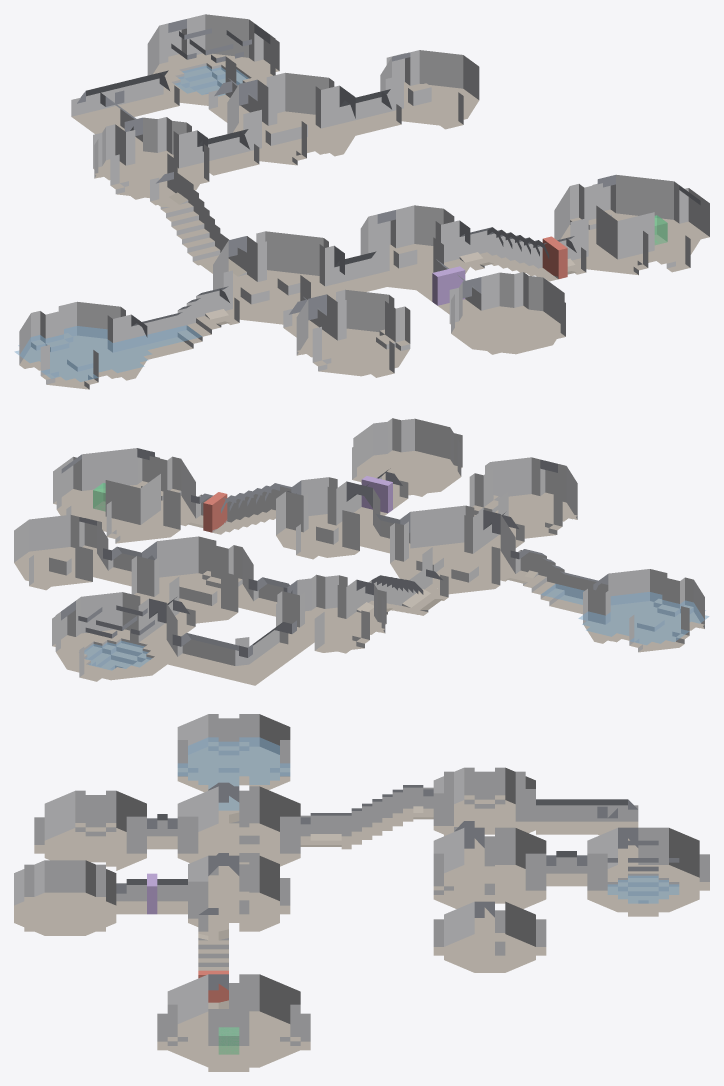
The model's file is pod_military_05.glb.
3 views of the same model, one above another, from view 1: azimuth 30°, elevation 25°; view 2: azimuth 150°, elevation 25°; view 3: azimuth 270°, elevation 25° (orthographic). The views are drawn at different scales.
Visible parts, largest first — view 1: room:9, water, room:1, room:3, room:5, room:7, room:4, room:6, room:8, room:0, room:2, corridor:9 (+29 smaller); view 2: room:1, room:9, water, room:7, room:3, room:4, room:5, corridor:9, room:0, room:8, room:6, room:2 (+32 smaller); view 3: room:3, room:9, room:5, water, room:7, room:1, room:4, room:8, corridor:0, room:6, room:2, corridor:9 (+25 smaller).
Part boxes in pixels (<box>): room:9: <box>449,272,565,354</box>; water: <box>14,65,248,381</box>; room:1: <box>213,231,344,325</box>; room:3: <box>554,174,700,275</box>; room:5: <box>227,72,355,165</box>; room:7: <box>147,14,275,106</box>; room:4: <box>19,301,147,389</box>; room:6: <box>296,289,410,376</box>; room:8: <box>380,50,479,125</box>; room:0: <box>93,117,209,199</box>; room:2: <box>360,205,470,290</box>; corridor:9: <box>71,70,179,152</box>; room:1: <box>390,505,515,595</box>; room:9: <box>352,418,462,496</box>; water: <box>84,584,709,670</box>; room:7: <box>55,592,177,680</box>; room:3: <box>56,448,195,543</box>; room:4: <box>583,569,704,652</box>; room:5: <box>131,536,253,624</box>; corridor:9: <box>168,620,305,685</box>; room:0: <box>276,574,386,653</box>; room:8: <box>14,514,108,586</box>; room:6: <box>474,457,577,539</box>; room:2: <box>276,477,380,557</box>; room:3: <box>167,974,300,1067</box>; room:9: <box>14,860,116,935</box>; room:5: <box>433,827,546,912</box>; water: <box>177,737,679,903</box>; room:7: <box>587,827,699,912</box>; room:1: <box>177,786,300,875</box>; room:4: <box>177,714,290,792</box>; room:8: <box>444,901,535,972</box>; corridor:0: <box>300,785,433,849</box>; room:6: <box>44,791,146,870</box>; room:2: <box>188,855,279,931</box>; corridor:9: <box>536,799,638,864</box>.
Size of the model in its own units: 72 by 10 by 68.
